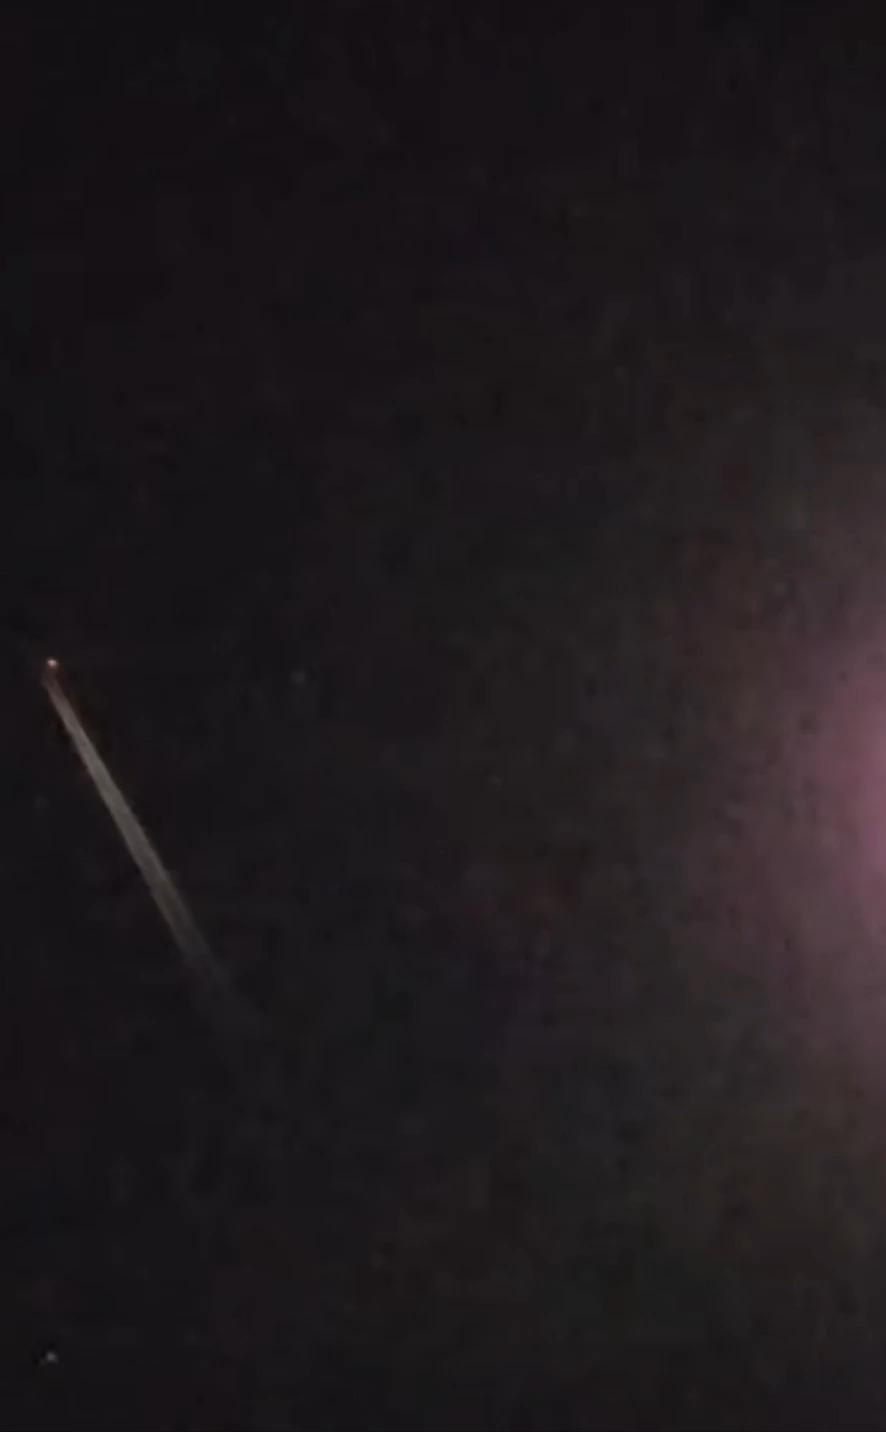Plane: (17, 636, 209, 968)
